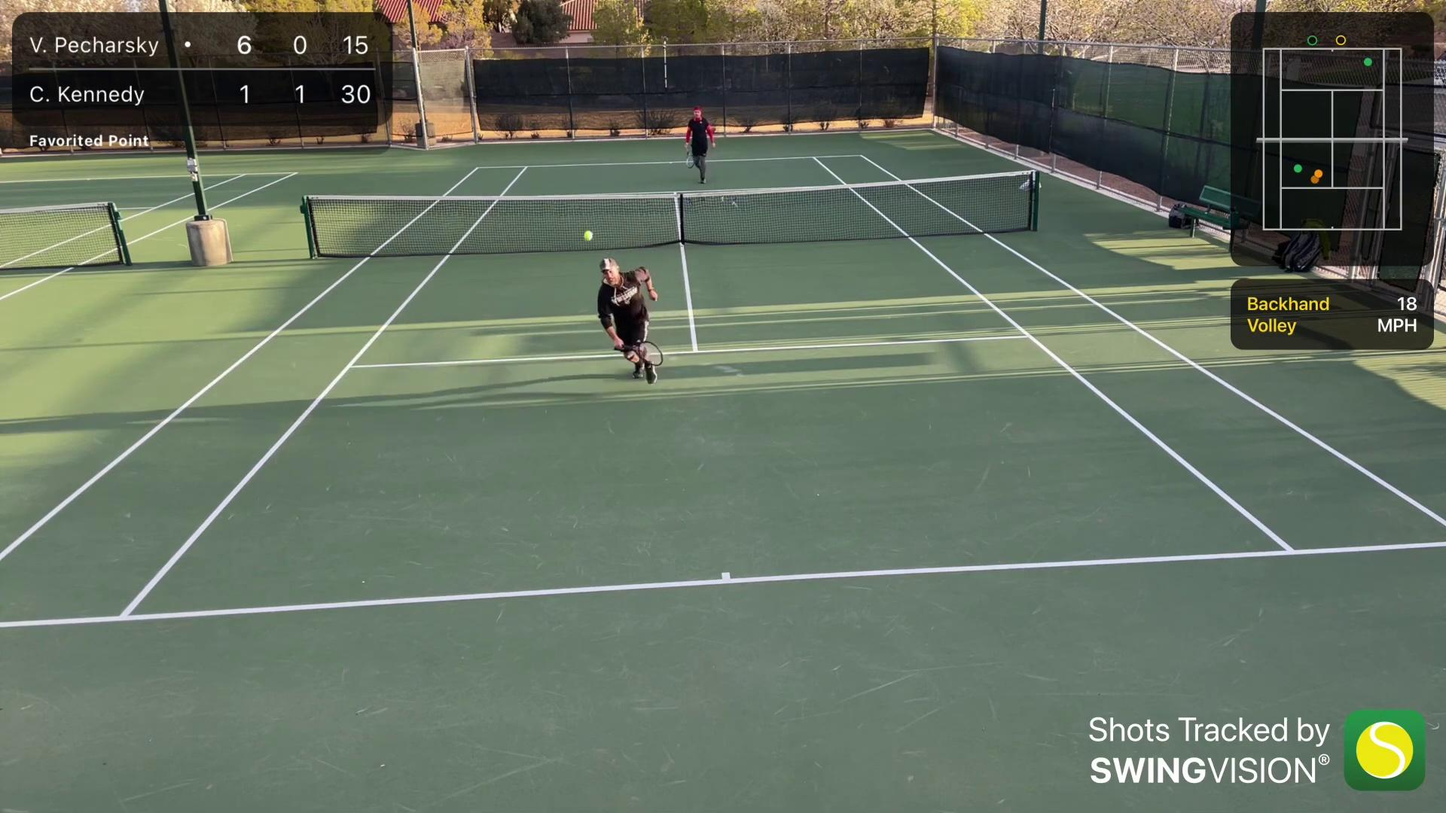ball: (582, 231, 595, 243)
